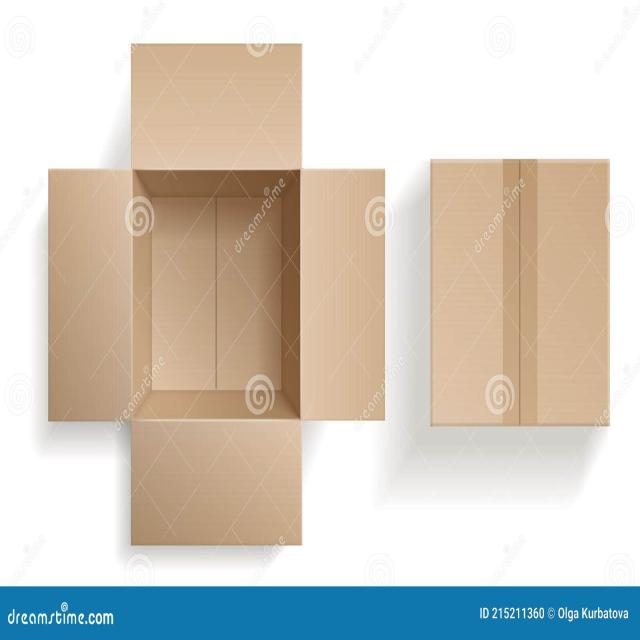box: (37, 26, 406, 578), (427, 154, 614, 430)
